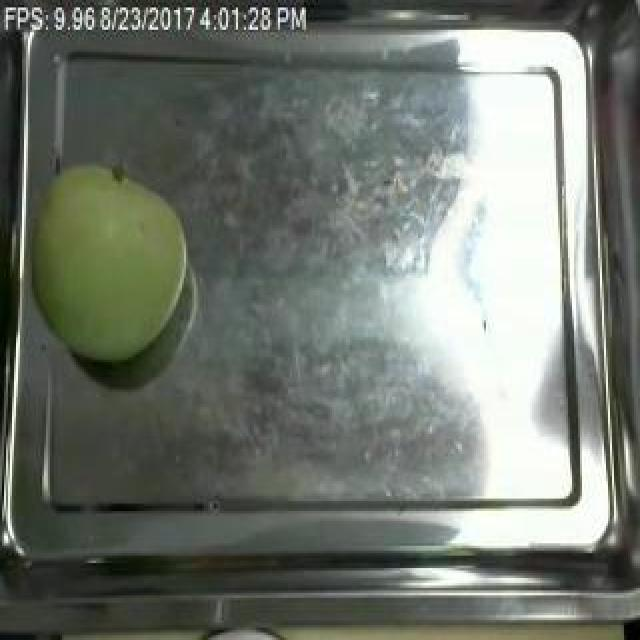Rotten Apple: (31, 158, 201, 370)
